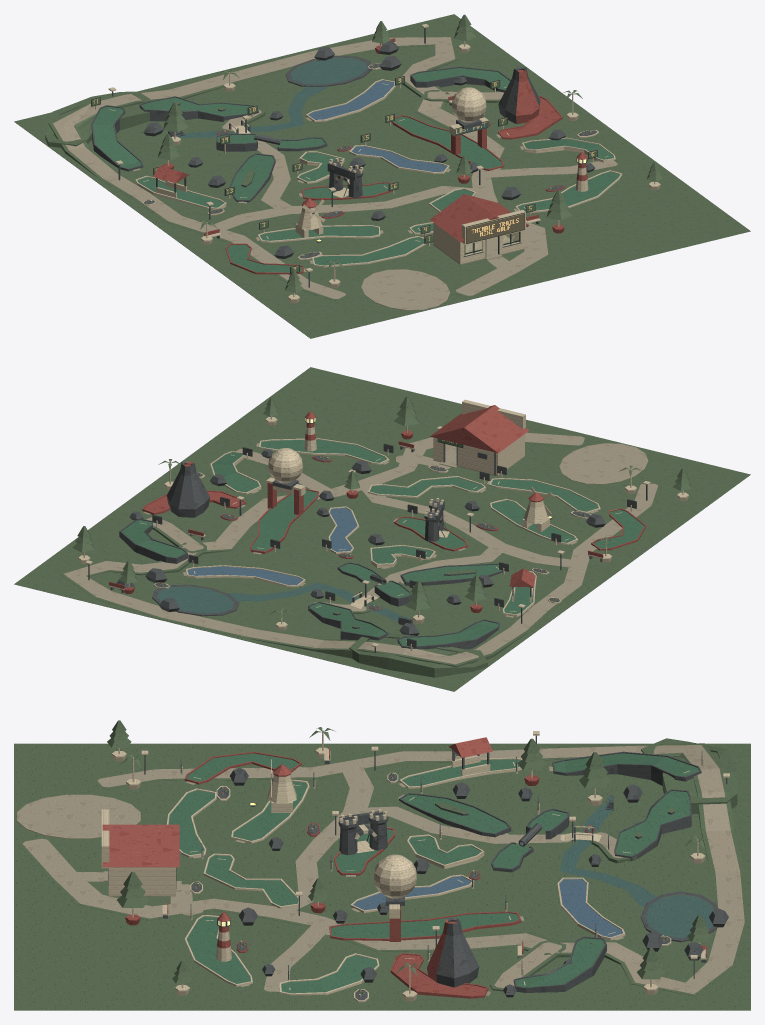
The model's file is thimble-trails-1990-mid.glb.
3 renders of one model, top to bottom at view 1: azimuth 30°, elevation 25°; view 2: azimuth 150°, elevation 25°; view 3: azimuth 270°, elevation 25°, orthographic. The views are drawn at different scales.
Visible parts, largest first — view 1: lot, putting_lanes, course_obstacles, ticket_hut, statue_pad, sign_name; view 2: lot, putting_lanes, ticket_hut, course_obstacles, statue_pad; view 3: lot, putting_lanes, course_obstacles, ticket_hut, statue_pad, Covered bridge roof, Gate turret.001, Gate turret.
Part boxes in pixels (x1,y1,x2,y2): lot: [14, 14, 750, 338]; putting_lanes: [91, 66, 622, 274]; course_obstacles: [295, 67, 588, 237]; ticket_hut: [430, 194, 528, 264]; statue_pad: [361, 269, 450, 310]; sign_name: [466, 212, 524, 243]; lot: [14, 367, 750, 691]; putting_lanes: [119, 438, 646, 651]; ticket_hut: [430, 399, 529, 476]; course_obstacles: [167, 411, 549, 531]; statue_pad: [559, 443, 648, 484]; lot: [14, 738, 750, 1010]; putting_lanes: [167, 751, 703, 998]; course_obstacles: [216, 764, 479, 987]; ticket_hut: [101, 809, 181, 896]; statue_pad: [17, 794, 140, 838]; Covered bridge roof: [449, 737, 492, 757]; Gate turret.001: [338, 818, 358, 855]; Gate turret: [368, 813, 388, 850].
Size of what is drawn, in the model's own units: 60 by 7.98 by 70.
Materials: 11 (11 with a texture image).
